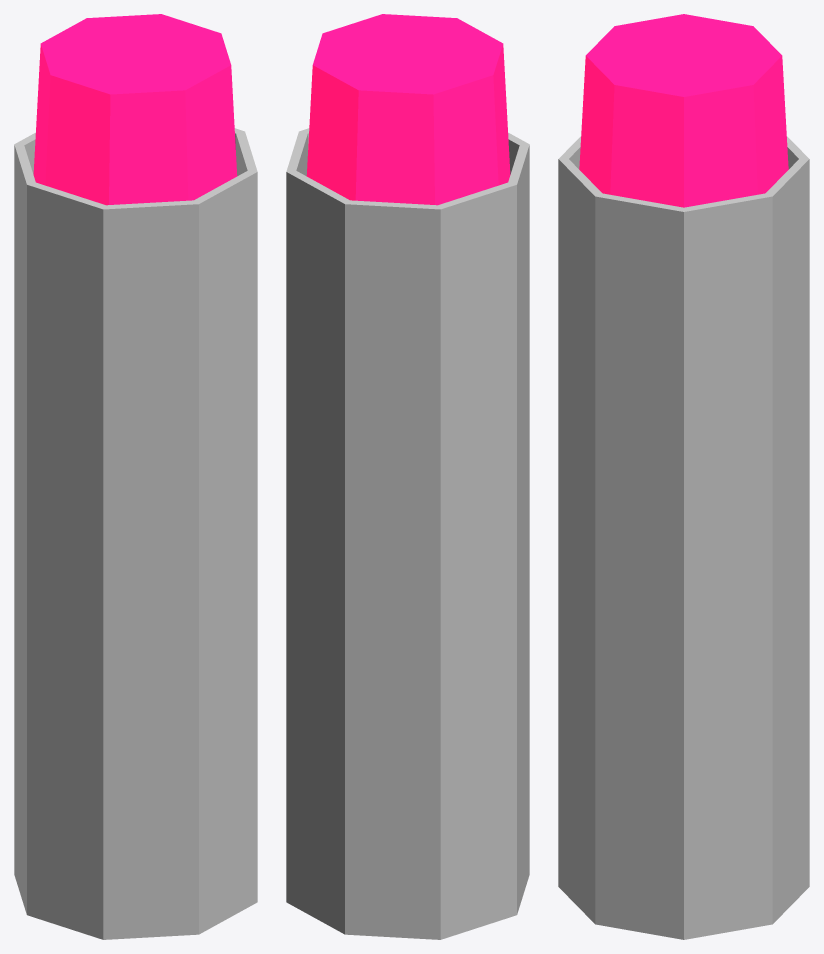
Rendered from button.glb.
3 views of the same model, side by side, from view 1: azimuth 30°, elevation 25°; view 2: azimuth 150°, elevation 25°; view 3: azimuth 270°, elevation 25° (orthographic).
Visible parts, largest first — view 1: Cylinder; view 2: Cylinder; view 3: Cylinder.
Part boxes in pixels (x1,y1,x2,y2): Cylinder: (14, 14, 257, 939); Cylinder: (286, 14, 529, 939); Cylinder: (558, 14, 809, 939).
Bounding box in the file's own units: 0.5 × 1.83 × 0.5.
